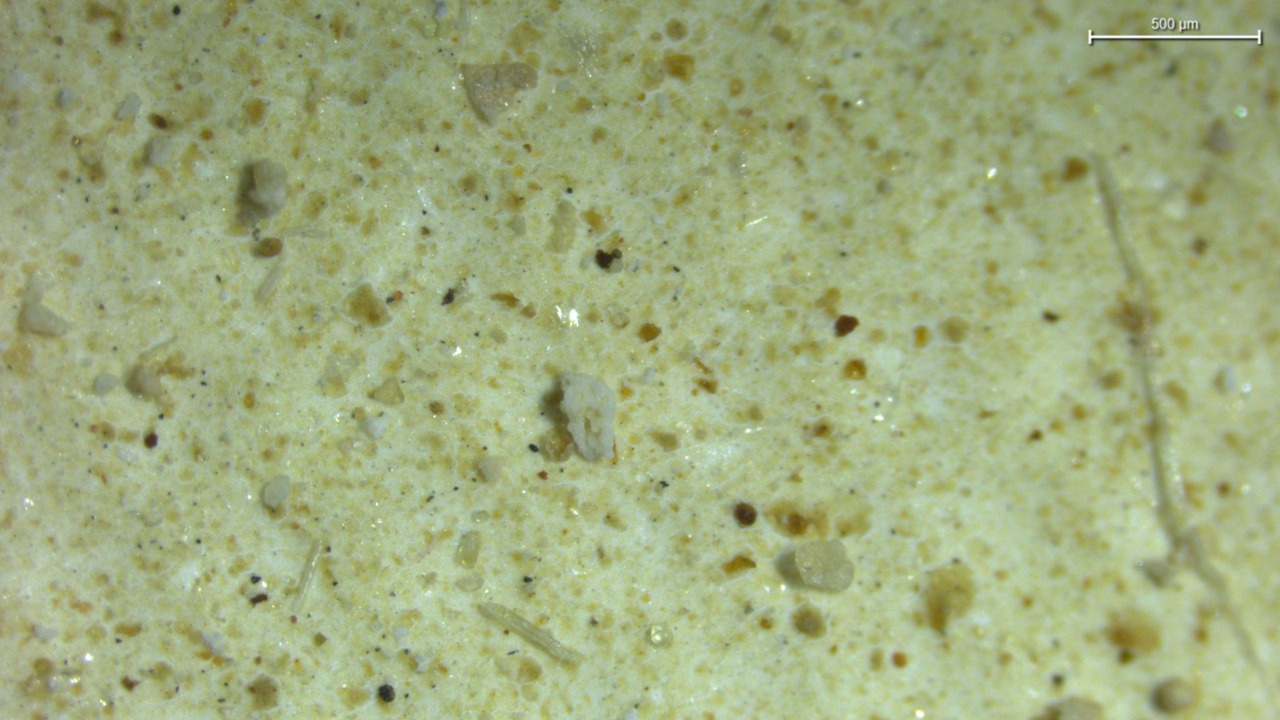microplastic_fragment: (559, 372, 615, 460), (462, 62, 537, 123), (794, 539, 853, 592), (246, 159, 287, 216), (19, 299, 67, 336), (261, 475, 290, 510), (147, 134, 174, 165), (361, 412, 388, 440), (116, 94, 141, 120)
